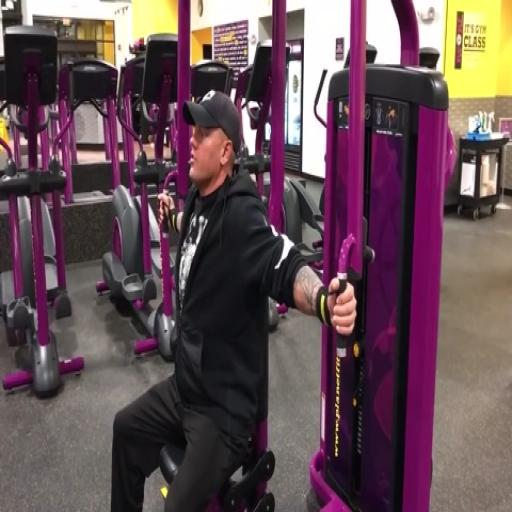exercise: (106, 88, 358, 511)
